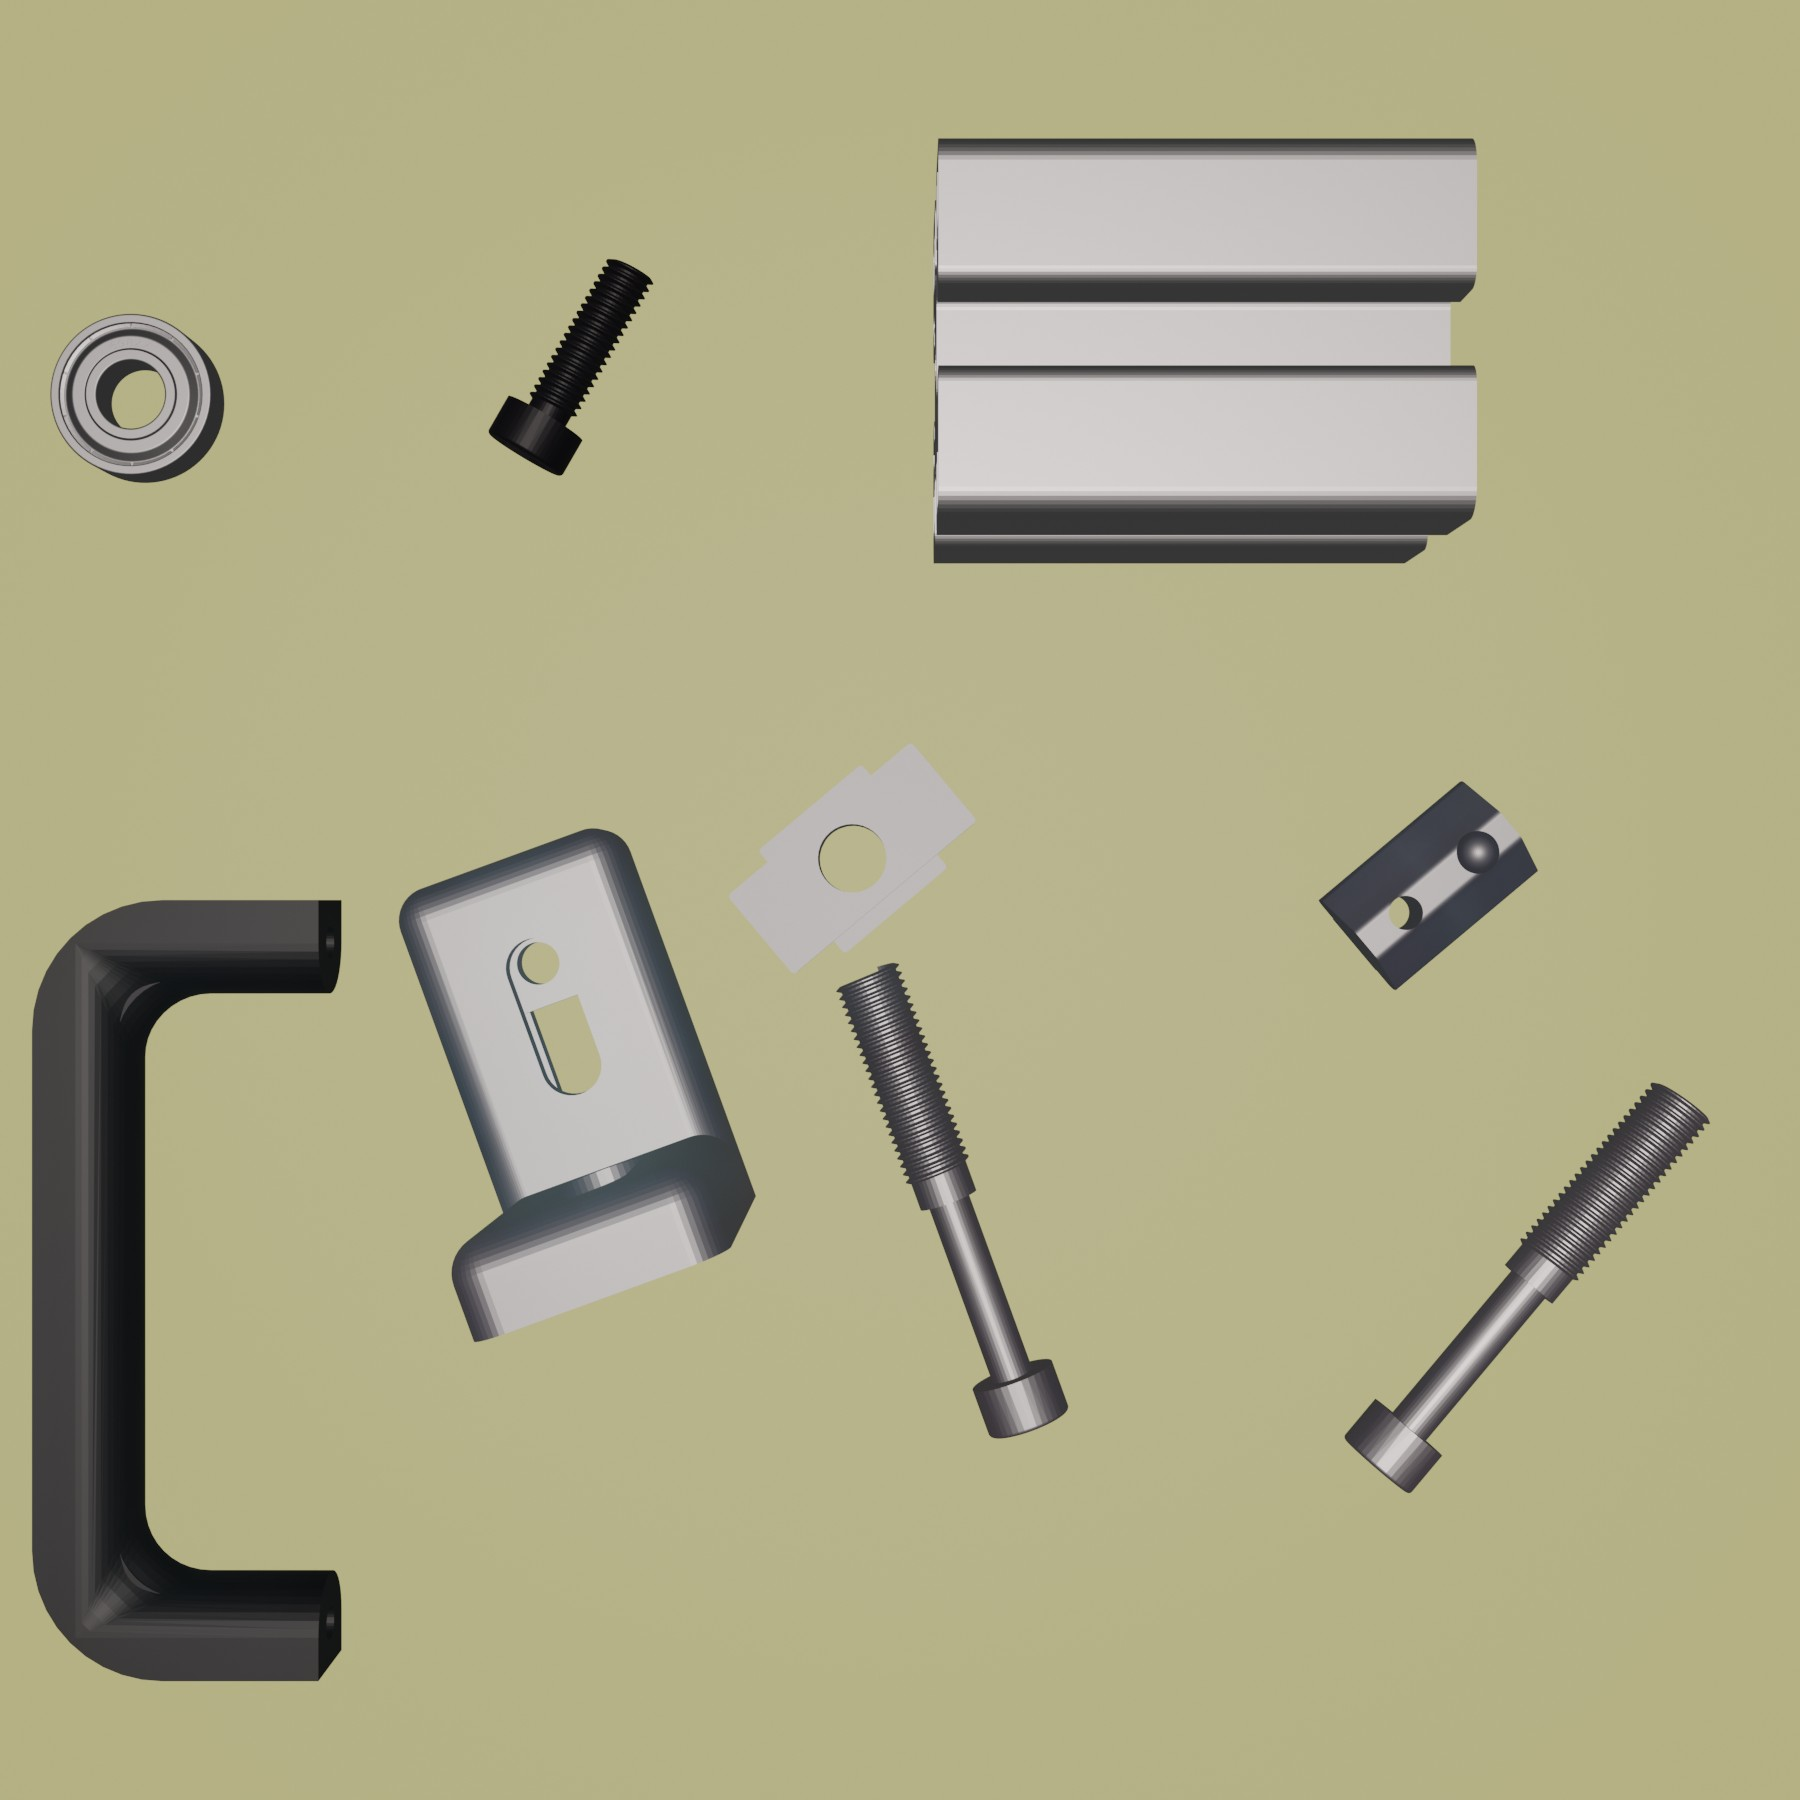Aluminium Extension: (926, 132, 1485, 570)
Ball Bearing: (46, 308, 224, 485)
Multiwinkel: (397, 824, 758, 1343)
Pull Handle: (25, 892, 348, 1685)
Shoulder Socket Head Cap Screw: (1342, 1080, 1713, 1497), (831, 958, 1070, 1441)
Socket Head Cap Screw: (486, 252, 656, 480)
T Nut Square: (724, 738, 979, 981)
T Spring Nut: (1315, 776, 1540, 992)
